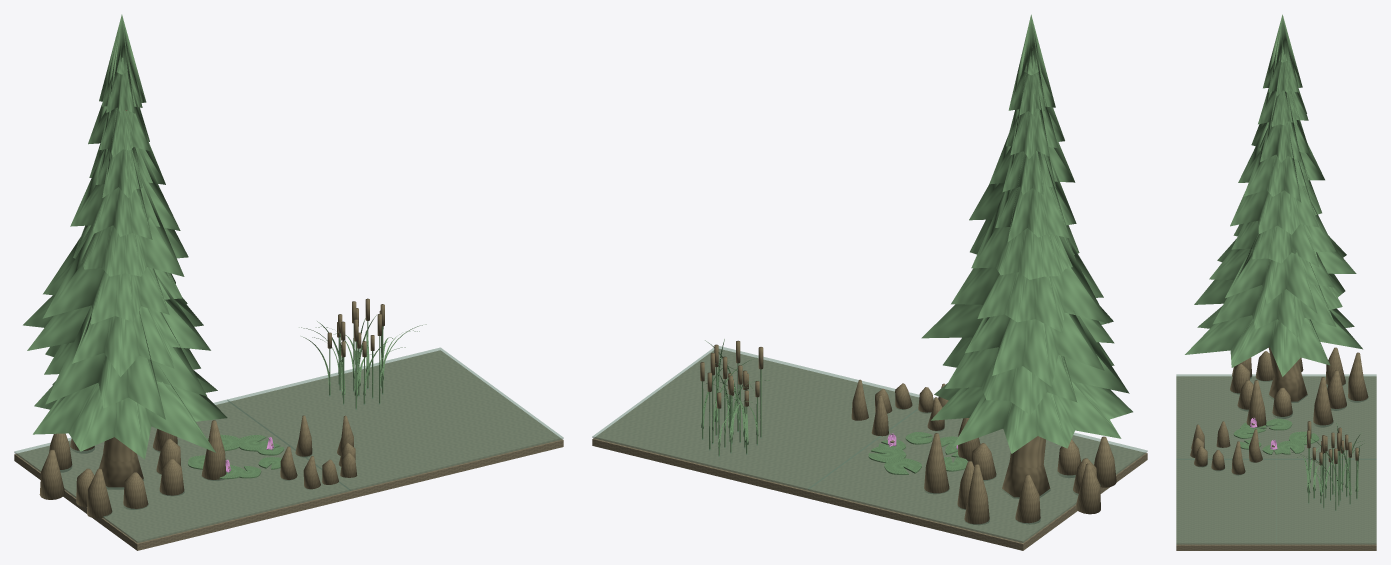
The model's file is cypress_swamp_swamp_and_mangrove_22670.glb.
The picture shows the model from 3 angles, left to right: view 1: azimuth 30°, elevation 25°; view 2: azimuth 150°, elevation 25°; view 3: azimuth 270°, elevation 25°; orthographic projection. The views are drawn at different scales.
Visible parts, largest first — view 1: 002-bald-cypress/1, 001-open-water-tile/0, 001-open-water-tile/1, 000-open-water-tile/0, 000-open-water-tile/1, 002-bald-cypress/0, 002-bald-cypress/10, 002-bald-cypress/6, 002-bald-cypress/3, 002-bald-cypress/8, 002-bald-cypress/5; view 2: 002-bald-cypress/1, 001-open-water-tile/0, 001-open-water-tile/1, 000-open-water-tile/0, 000-open-water-tile/1, 002-bald-cypress/0, 002-bald-cypress/4, 002-bald-cypress/7, 002-bald-cypress/6, 002-bald-cypress/9, 002-bald-cypress/3, 002-bald-cypress/8; view 3: 002-bald-cypress/1, 001-open-water-tile/0, 001-open-water-tile/1, 000-open-water-tile/1, 000-open-water-tile/0, 002-bald-cypress/0, 002-bald-cypress/7, 002-bald-cypress/4, 002-bald-cypress/10, 002-bald-cypress/12, 002-bald-cypress/2, 002-bald-cypress/11 (+9 smaller).
Part boxes in pixels (x1=…): 002-bald-cypress/1: x1=23, y1=14, x2=227, y2=459; 001-open-water-tile/0: x1=228, y1=350, x2=563, y2=498; 001-open-water-tile/1: x1=227, y1=347, x2=563, y2=490; 000-open-water-tile/0: x1=14, y1=402, x2=350, y2=550; 000-open-water-tile/1: x1=14, y1=399, x2=350, y2=542; 002-bald-cypress/0: x1=99, y1=110, x2=143, y2=489; 002-bald-cypress/10: x1=201, y1=420, x2=226, y2=480; 002-bald-cypress/6: x1=39, y1=449, x2=65, y2=499; 002-bald-cypress/3: x1=87, y1=468, x2=112, y2=518; 002-bald-cypress/8: x1=123, y1=472, x2=148, y2=509; 002-bald-cypress/5: x1=159, y1=458, x2=184, y2=496; 002-bald-cypress/1: x1=921, y1=14, x2=1132, y2=453; 001-open-water-tile/0: x1=592, y1=349, x2=919, y2=498; 001-open-water-tile/1: x1=592, y1=346, x2=919, y2=490; 000-open-water-tile/0: x1=808, y1=411, x2=1147, y2=550; 000-open-water-tile/1: x1=808, y1=398, x2=1147, y2=542; 002-bald-cypress/0: x1=1001, y1=436, x2=1050, y2=498; 002-bald-cypress/4: x1=964, y1=464, x2=989, y2=525; 002-bald-cypress/7: x1=924, y1=433, x2=949, y2=494; 002-bald-cypress/6: x1=1075, y1=463, x2=1100, y2=514; 002-bald-cypress/9: x1=1015, y1=474, x2=1040, y2=524; 002-bald-cypress/3: x1=1094, y1=436, x2=1116, y2=487; 002-bald-cypress/8: x1=1057, y1=439, x2=1080, y2=478; 002-bald-cypress/1: x1=1185, y1=14, x2=1362, y2=376; 001-open-water-tile/0: x1=1176, y1=461, x2=1376, y2=550; 001-open-water-tile/1: x1=1176, y1=458, x2=1376, y2=544; 000-open-water-tile/1: x1=1176, y1=374, x2=1376, y2=459; 000-open-water-tile/0: x1=1176, y1=376, x2=1376, y2=460; 002-bald-cypress/0: x1=1268, y1=347, x2=1307, y2=402; 002-bald-cypress/7: x1=1313, y1=377, x2=1333, y2=427; 002-bald-cypress/4: x1=1348, y1=352, x2=1368, y2=402; 002-bald-cypress/10: x1=1246, y1=380, x2=1266, y2=429; 002-bald-cypress/12: x1=1327, y1=370, x2=1346, y2=410; 002-bald-cypress/2: x1=1272, y1=387, x2=1292, y2=418; 002-bald-cypress/11: x1=1255, y1=351, x2=1273, y2=381.
Size of the model in its own units: 8.74 by 8.55 by 4.
5 materials, 3 textured.
